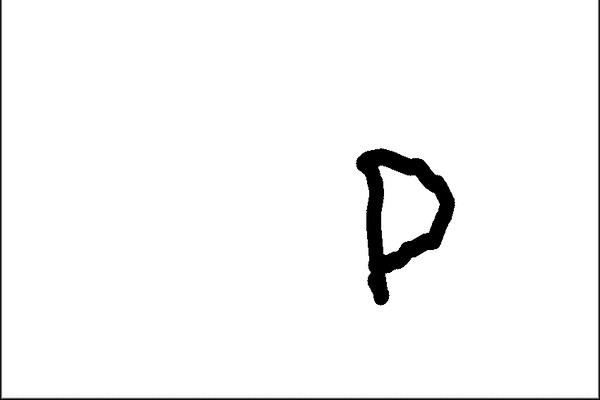D: (351, 145, 459, 307)
